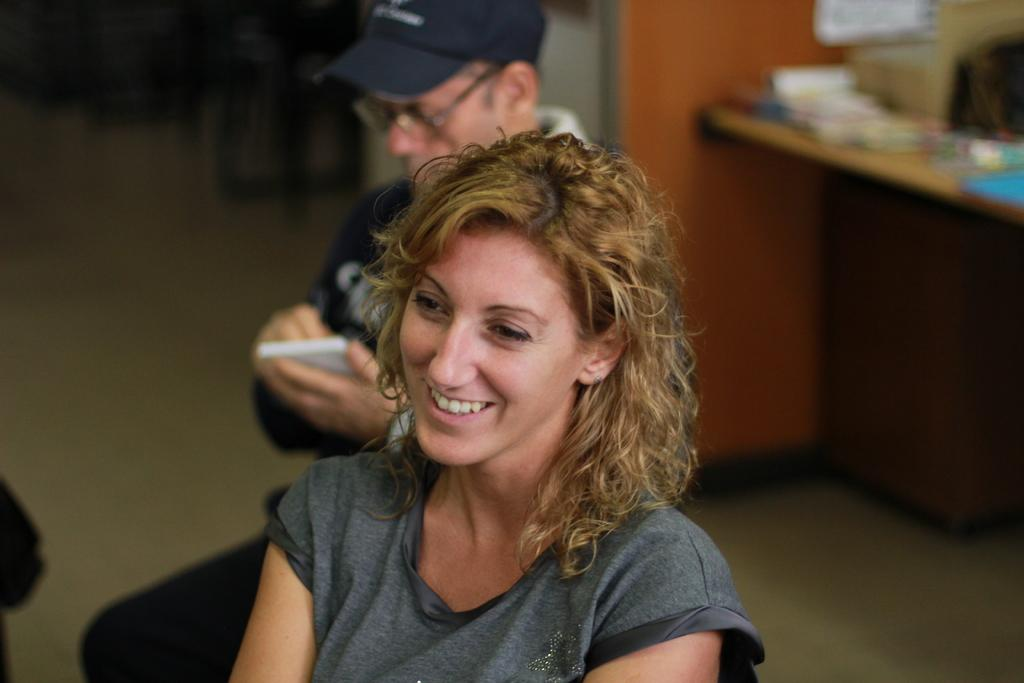Hat: (316, 0, 548, 103)
